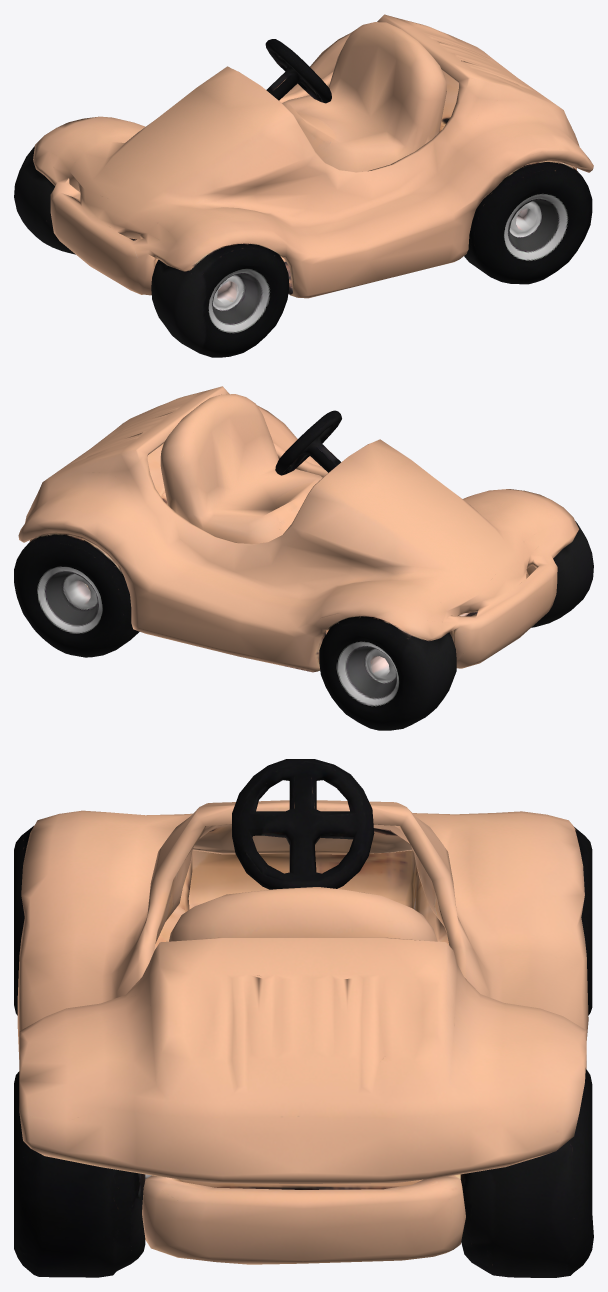
File: go_kart.glb
3 views of the same model, one above another, from view 1: azimuth 30°, elevation 25°; view 2: azimuth 150°, elevation 25°; view 3: azimuth 270°, elevation 25° (orthographic). The views are drawn at different scales.
Bounding box in the file's own units: 1.91 × 0.8885 × 1.26.
1 material, 1 textured.
